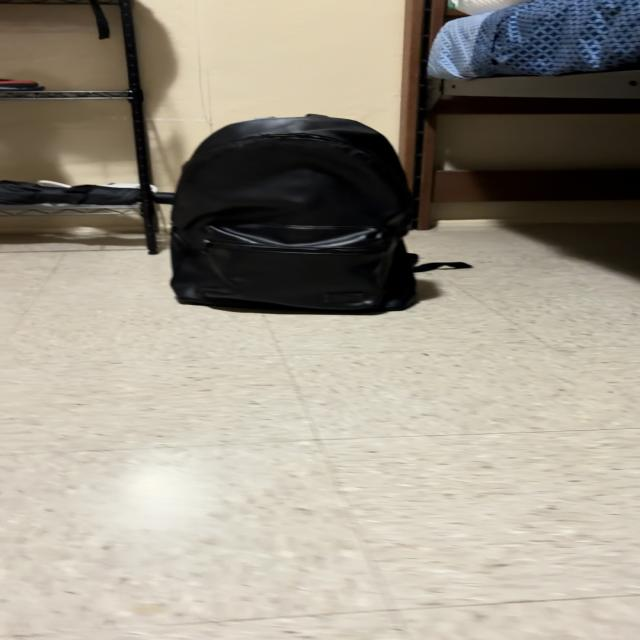backpack: (171, 115, 416, 312)
